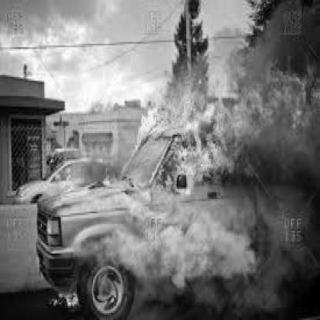Fire: (59, 164, 119, 194)
